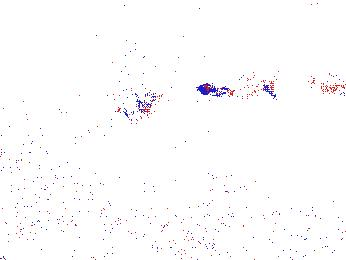red belly glassfish: (308, 68, 346, 97), (305, 45, 338, 61)
redtail glassfish: (197, 68, 281, 104), (63, 90, 149, 119)
